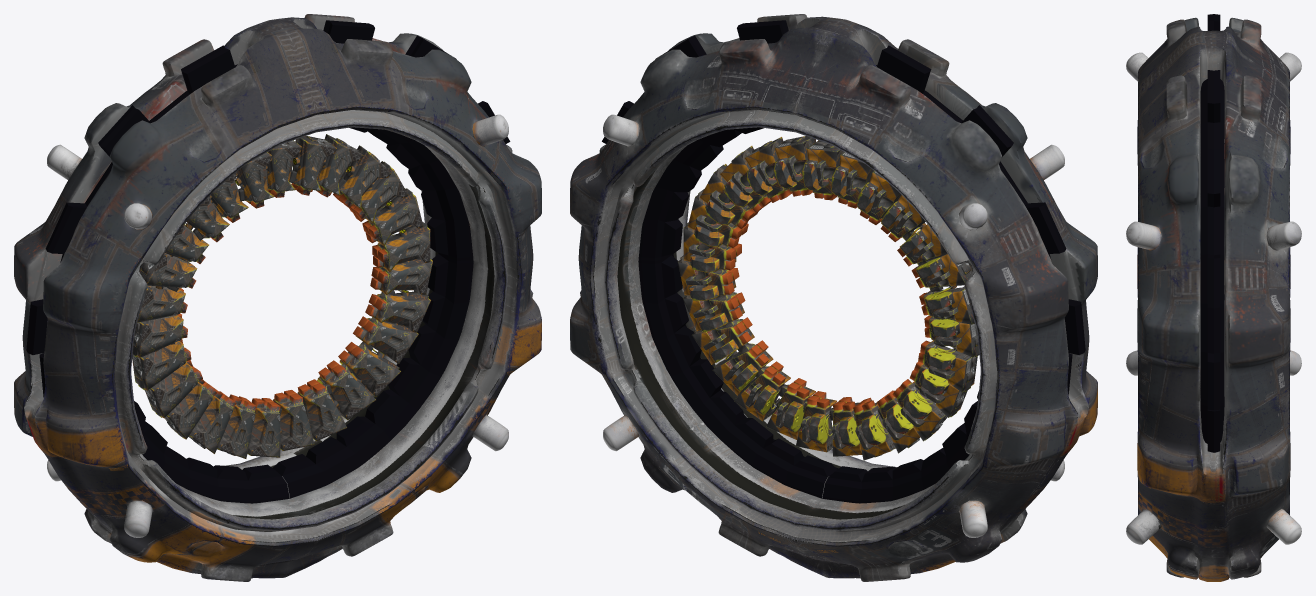
Rendered from ring_power_conscientiamstudios.glb.
3 renders of one model, left to right at view 1: azimuth 30°, elevation 25°; view 2: azimuth 150°, elevation 25°; view 3: azimuth 270°, elevation 25°, orthographic. The views are drawn at different scales.
Parts seen in each view (by area): view 1: ring_large, ring_grand, ring_large_interior; view 2: ring_large, ring_grand, ring_large_interior; view 3: ring_large, ring_large_interior.
Boxes of the visible parts, box(x1,y1,x2,y2) form: ring_large: box(14, 14, 541, 581); ring_grand: box(132, 134, 432, 458); ring_large_interior: box(26, 20, 510, 503); ring_large: box(570, 14, 1097, 581); ring_grand: box(678, 136, 979, 460); ring_large_interior: box(602, 20, 1085, 503); ring_large: box(1126, 17, 1301, 581); ring_large_interior: box(1200, 14, 1224, 452).
Size of the model in its own units: 0.1582 by 0.1664 by 0.0501.
Materials: 3 (2 with a texture image).
